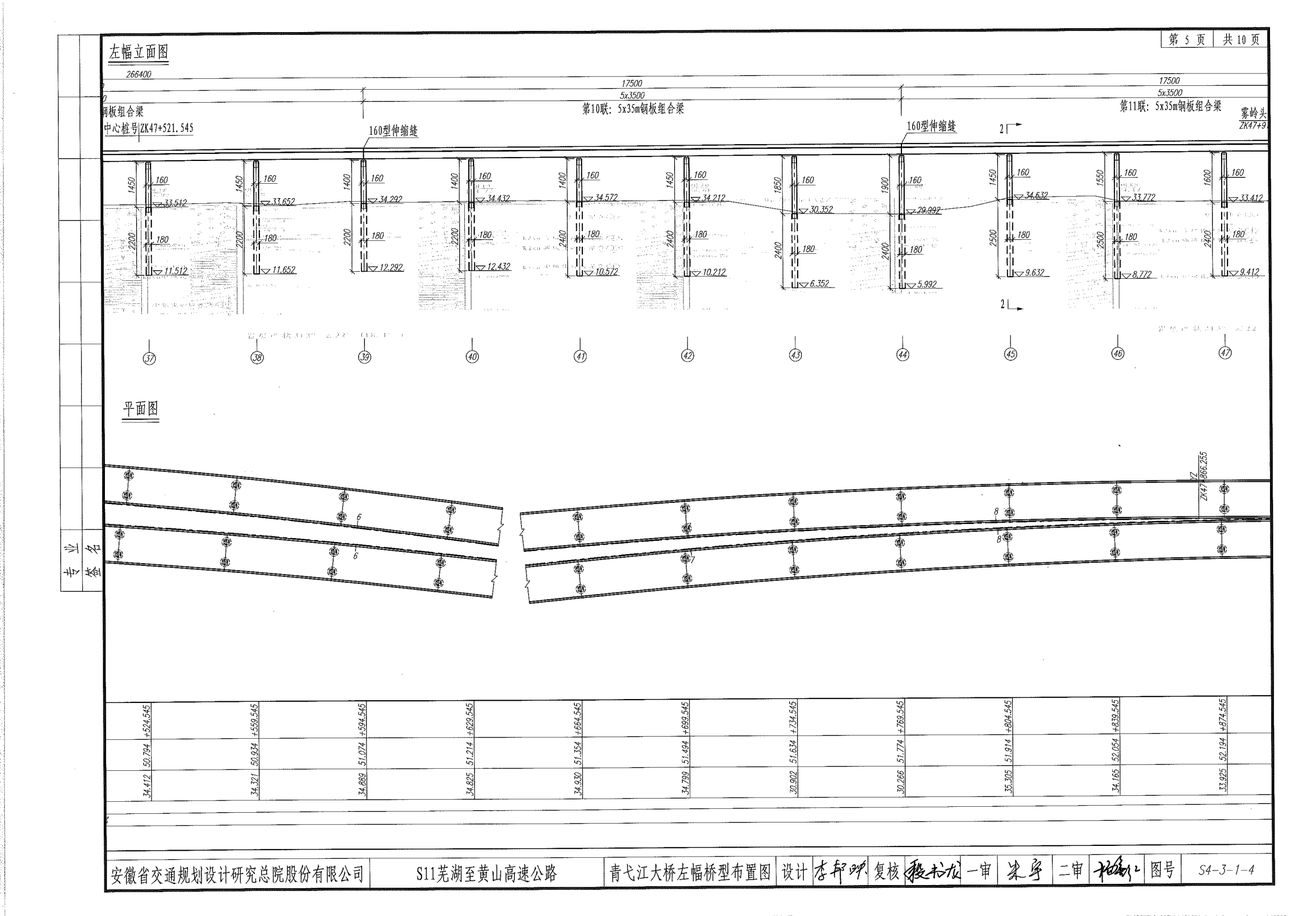A: (53, 39, 1286, 370)
